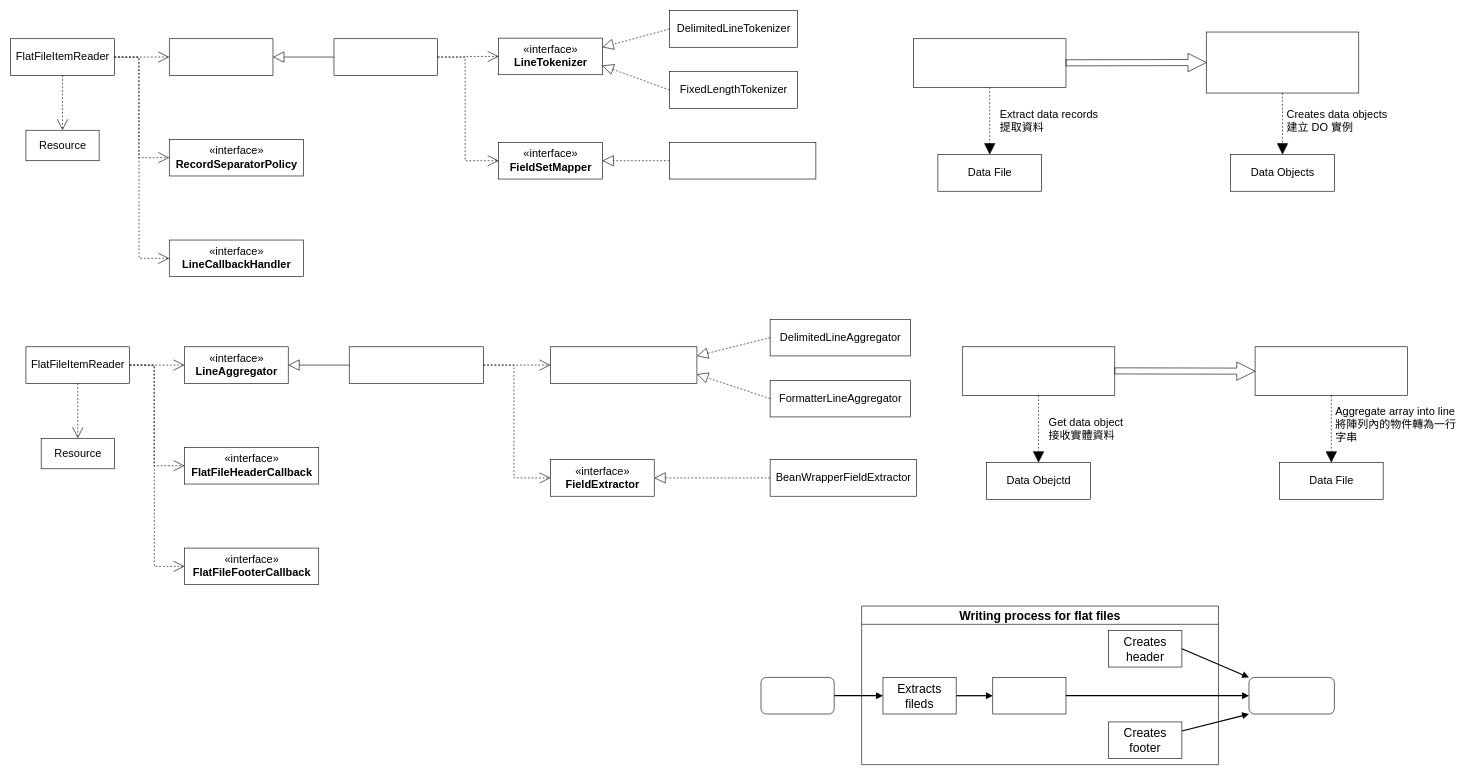
The diagram is 1473 pixels wide and 775 high, and some of its shapes have lost their labels. Each missing label, with the centre of its shape:
"Aggregates fields" belongs at point 1029,695.
"BeanWrapperFieldMapper" belongs at point 742,160.
"DefaultLineMapper" belongs at point 385,56.
"ExtractorLineAggregator" belongs at point 416,364.
"First processing Convert item into an array" belongs at point 1038,371.
"First processing Identifying data records" belongs at point 989,63.
"Item" belongs at point 797,695.
"Second processing Aggregate array into a line" belongs at point 1331,371.
"Second processing Creating data objects from records" belongs at point 1282,62.
"Writes to file" belongs at point 1291,695.
"«interface» ExtractorLineAggregator" belongs at point 623,364.
"«interface» LineMapper" belongs at point 221,56.
